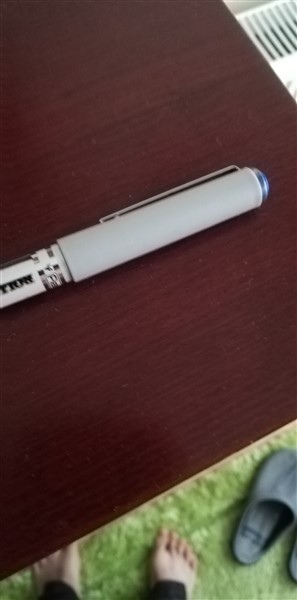pilot kalem: (1, 144, 275, 322)
